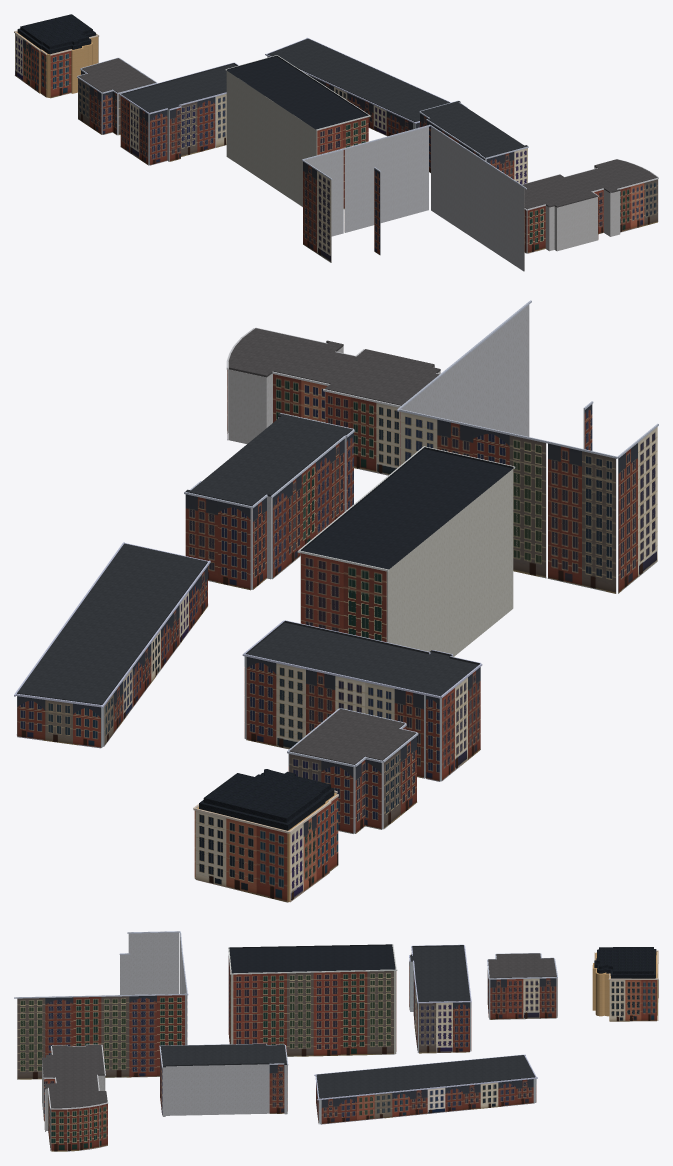
3 renders of one model, top to bottom at view 1: azimuth 30°, elevation 25°; view 2: azimuth 150°, elevation 25°; view 3: azimuth 270°, elevation 25°, orthographic. The views are drawn at different scales.
Parts seen in each view (by area): view 1: bldg_260480247_facade9, bldg_655178388, bldg_260480247_facade10, bldg_339616480_roof, bldg_655178388_roof, bldg_260480248_roof, bldg_260480248, bldg_260480249_roof, bldg_483462278_roof, bldg_260480247_facade0, bldg_483462278_facade4, bldg_260480248_facade9 (+18 smaller); view 2: bldg_655178388, bldg_339616480_roof, bldg_655178388_roof, bldg_483462278_facade1, bldg_260480247_facade11, bldg_260480247_facade9, bldg_260480247_facade10, bldg_260480248_roof, bldg_483462278_roof, bldg_260480249_roof, bldg_495172895_facade4, bldg_655178388_facade2 (+18 smaller); view 3: bldg_655178388_facade1, bldg_260480247_facade9, bldg_339616480_facade0, bldg_260480249, bldg_339616480_roof, bldg_655178388_roof, bldg_260480248_roof, bldg_260480247_facade0, bldg_483462278_roof, bldg_483462279_facade3, bldg_483462278_facade2, bldg_260480249_roof (+15 smaller).
Boxes of the visible parts, box(x1,y1,x2,y2) form: bldg_260480247_facade9: box(429, 124, 526, 271); bldg_655178388: box(226, 71, 317, 206); bldg_260480247_facade10: box(343, 125, 430, 232); bldg_339616480_roof: box(267, 38, 449, 121); bldg_655178388_roof: box(226, 55, 368, 129); bldg_260480248_roof: box(522, 159, 657, 209); bldg_260480248: box(526, 166, 620, 253); bldg_260480249_roof: box(420, 101, 527, 157); bldg_483462278_roof: box(121, 63, 237, 112); bldg_260480247_facade0: box(302, 159, 332, 262); bldg_483462278_facade4: box(178, 95, 216, 156); bldg_260480248_facade9: box(617, 177, 658, 232); bldg_655178388: box(300, 469, 513, 656); bldg_339616480_roof: box(17, 543, 207, 704); bldg_655178388_roof: box(300, 447, 513, 569); bldg_483462278_facade1: box(242, 654, 425, 778); bldg_260480247_facade11: box(547, 441, 617, 593); bldg_260480247_facade9: box(397, 300, 531, 465); bldg_260480247_facade10: box(398, 409, 547, 578); bldg_260480248_roof: box(229, 328, 440, 405); bldg_483462278_roof: box(245, 621, 479, 696); bldg_260480249_roof: box(185, 413, 352, 506); bldg_495172895_facade4: box(193, 808, 289, 902); bldg_655178388_facade2: box(299, 550, 388, 642); bldg_655178388_facade1: box(230, 969, 397, 1056); bldg_260480247_facade9: box(14, 993, 188, 1079); bldg_339616480_facade0: box(317, 1077, 537, 1124); bldg_260480249: box(160, 1047, 286, 1116); bldg_339616480_roof: box(316, 1055, 535, 1098); bldg_655178388_roof: box(229, 944, 395, 973); bldg_260480248_roof: box(42, 1045, 107, 1108); bldg_260480247_facade0: box(127, 931, 179, 994); bldg_483462278_roof: box(410, 945, 470, 1001); bldg_483462279_facade3: box(489, 977, 557, 1019); bldg_483462278_facade2: box(418, 1001, 470, 1053); bldg_260480249_roof: box(160, 1044, 286, 1067).
Bounding box in the file's own units: 130 × 32.38 × 222.
20 materials, 10 textured.
